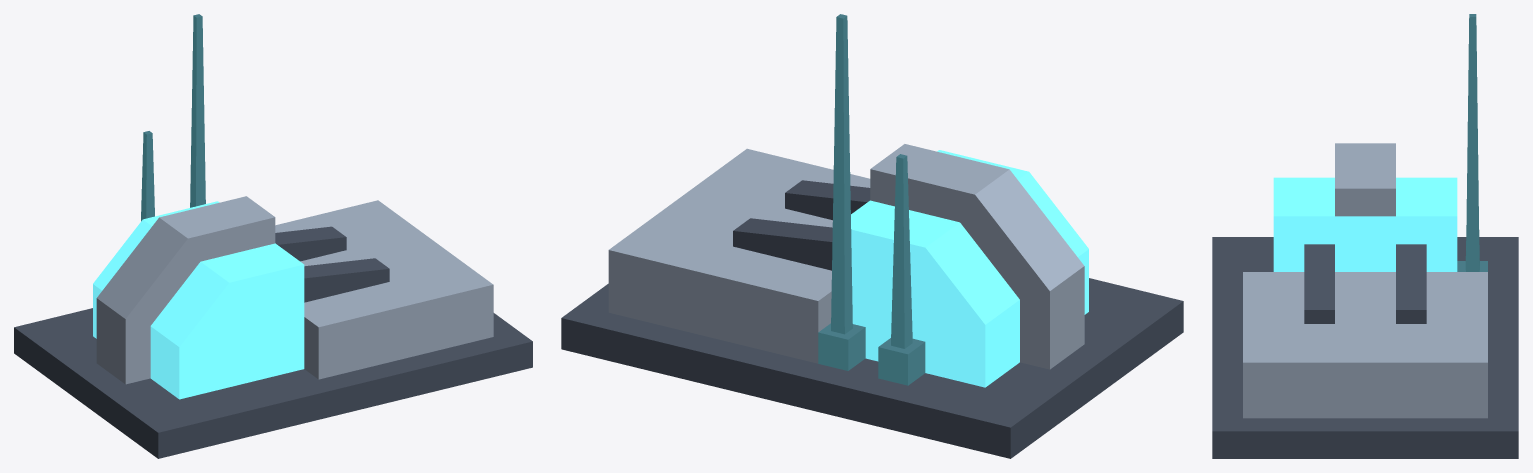
Rendered from machine_wireless.glb.
3 views of the same model, side by side, from view 1: azimuth 30°, elevation 25°; view 2: azimuth 150°, elevation 25°; view 3: azimuth 270°, elevation 25° (orthographic). The views are drawn at different scales.
Visible parts, largest first — view 1: machine_wireless; view 2: machine_wireless; view 3: machine_wireless.
Part boxes in pixels (bbox=[...]): machine_wireless: bbox=[14, 14, 532, 458]; machine_wireless: bbox=[561, 14, 1183, 458]; machine_wireless: bbox=[1212, 14, 1518, 458].
Size of the model in its own units: 0.75 by 0.6 by 0.5.
